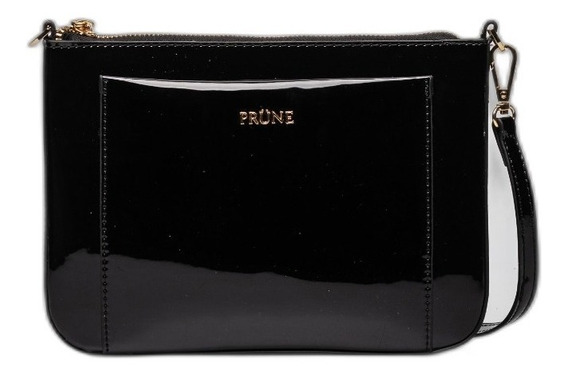cartera: (34, 18, 496, 359)
